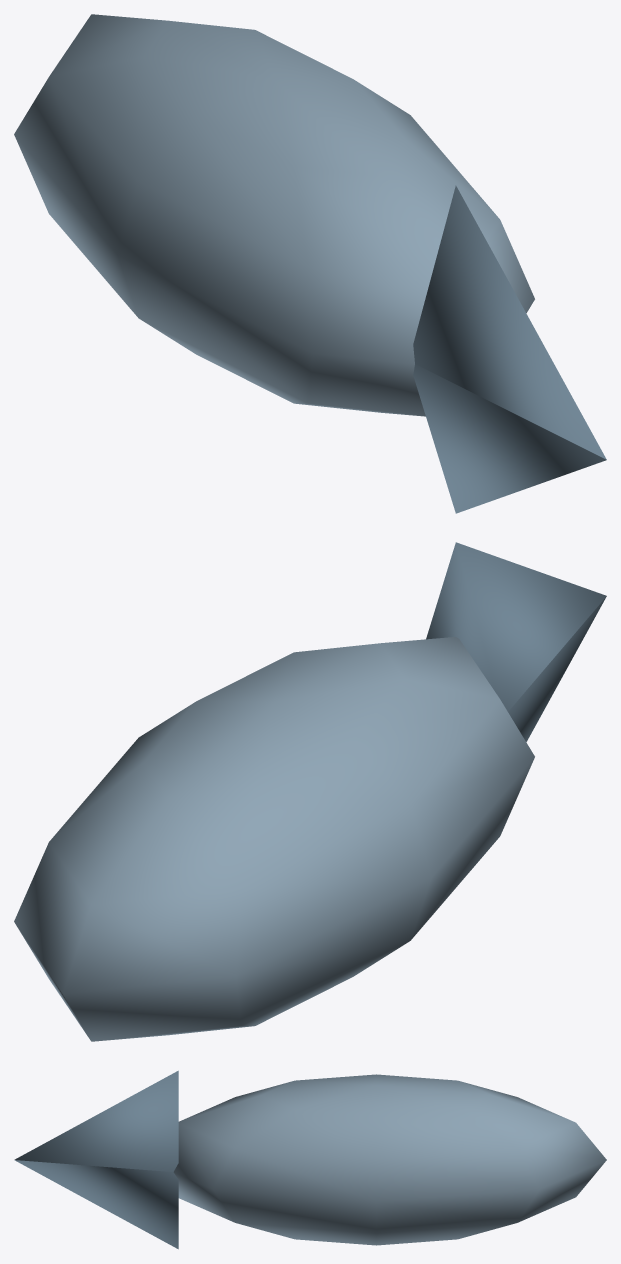
The model's file is good-fish.glb.
3 views of the same model, one above another, from view 1: azimuth 30°, elevation 25°; view 2: azimuth 150°, elevation 25°; view 3: azimuth 270°, elevation 25° (orthographic). The views are drawn at different scales.
Visible parts, largest first — view 1: #8aa0b0 metal 0.4 rough 0.4, #6a8090; view 2: #8aa0b0 metal 0.4 rough 0.4, #6a8090; view 3: #8aa0b0 metal 0.4 rough 0.4, #6a8090.
Part boxes in pixels (x1,y1,x2,y2): #8aa0b0 metal 0.4 rough 0.4: (14, 14, 534, 416); #6a8090: (413, 185, 606, 513); #8aa0b0 metal 0.4 rough 0.4: (14, 637, 534, 1041); #6a8090: (426, 542, 606, 741); #8aa0b0 metal 0.4 rough 0.4: (173, 1074, 606, 1245); #6a8090: (14, 1070, 178, 1249).
Size of the model in its own units: 0.12 by 0.12 by 0.36.
